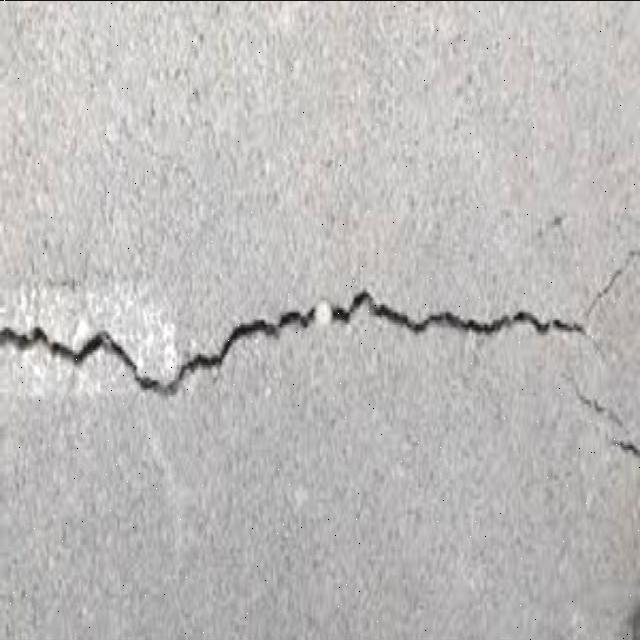crack: (0, 215, 636, 490)
